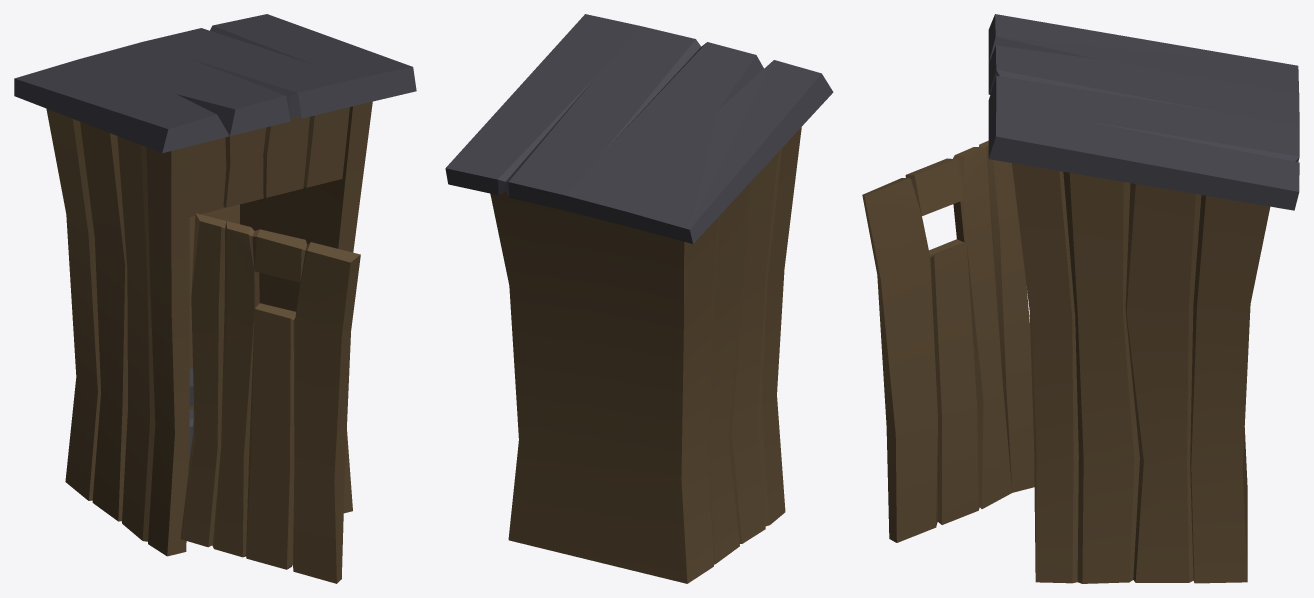
The picture shows the model from 3 angles, left to right: view 1: azimuth 30°, elevation 25°; view 2: azimuth 150°, elevation 25°; view 3: azimuth 270°, elevation 25°; orthographic projection. The views are drawn at different scales.
Parts seen in each view (by area): view 1: toilet; view 2: toilet; view 3: toilet.
Boxes of the visible parts, x1,y1,x2,y2 form: toilet: (14,14,416,583); toilet: (445,14,833,583); toilet: (862,14,1299,583).
Bounding box in the file's own units: 1.93 × 3.26 × 2.75.
1 material, 1 textured.
